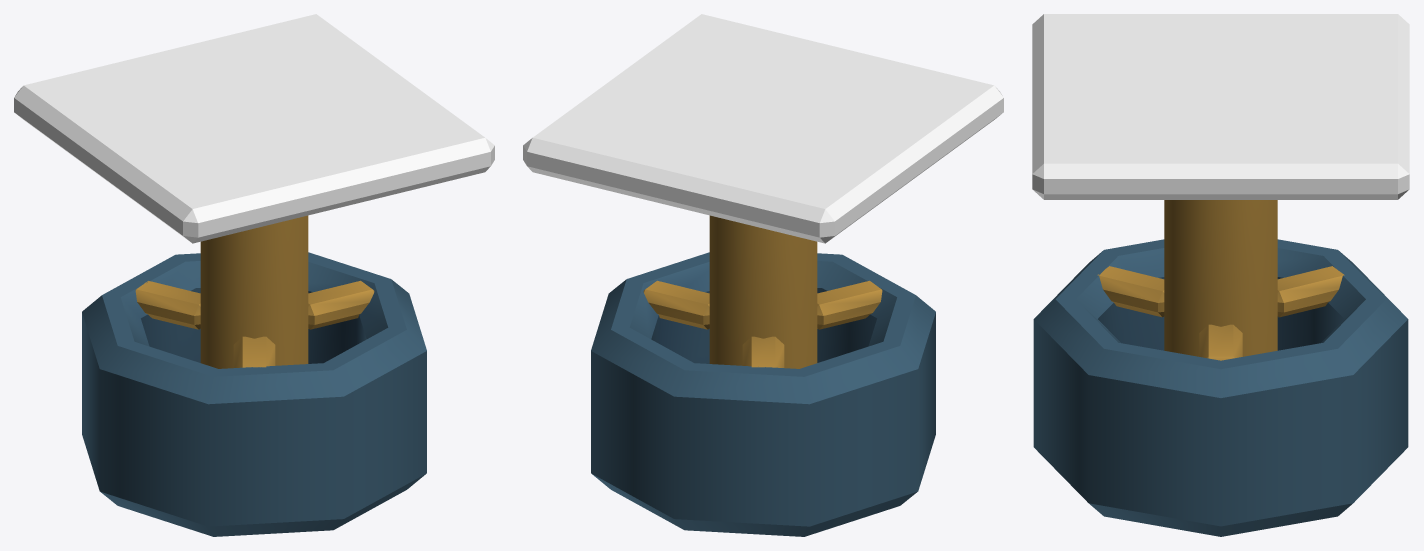
The model's file is R4M_HoverEngine_LOD1.fbx.
The picture shows the model from 3 angles, left to right: view 1: azimuth 30°, elevation 25°; view 2: azimuth 150°, elevation 25°; view 3: azimuth 270°, elevation 25°; orthographic projection. The views are drawn at different scales.
Visible parts, largest first — view 1: R4M_HoverEngine_LOD1; view 2: R4M_HoverEngine_LOD1; view 3: R4M_HoverEngine_LOD1.
Part boxes in pixels (x1,y1,x2,y2): R4M_HoverEngine_LOD1: [14, 14, 494, 536]; R4M_HoverEngine_LOD1: [523, 14, 1003, 536]; R4M_HoverEngine_LOD1: [1032, 14, 1409, 536].
Size of the model in its own units: 0.52 by 0.575 by 0.52.
